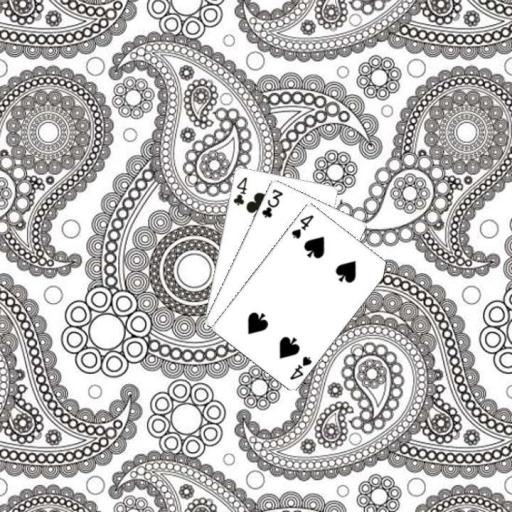3C: (258, 186, 285, 219)
4C: (230, 173, 248, 207)
4S: (288, 211, 315, 240), (287, 353, 314, 381)
